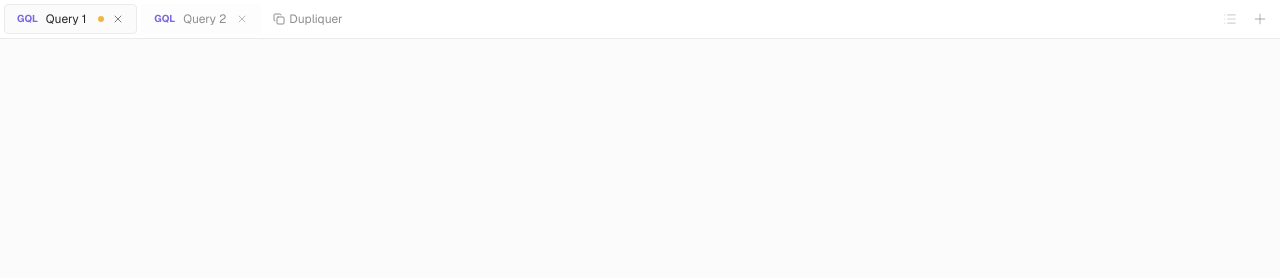
it: GraphqlTabBar › opens a context menu on right-click with tab actions
This screenshot has width=1280, height=278.
Later steps or results of the test are not shown.
Right-click the tab with test id "graphql-tab-tab-2" at point(201, 19), box [141,4,261,34]
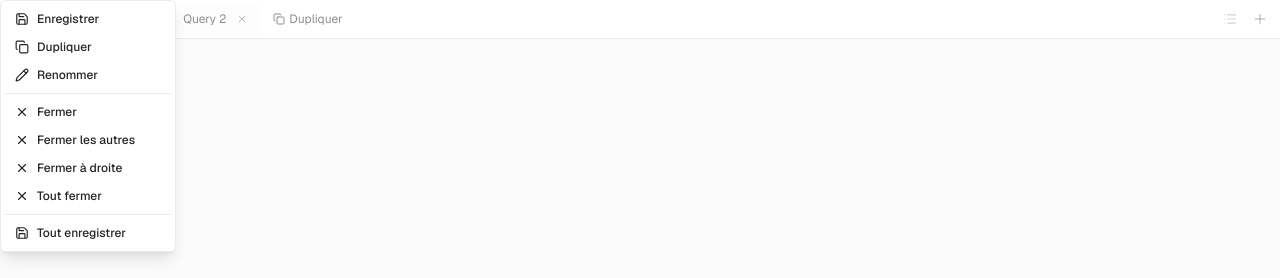
Expected: the element with test id "graphql-tab-context-menu" is shown, [0,0,176,252]
